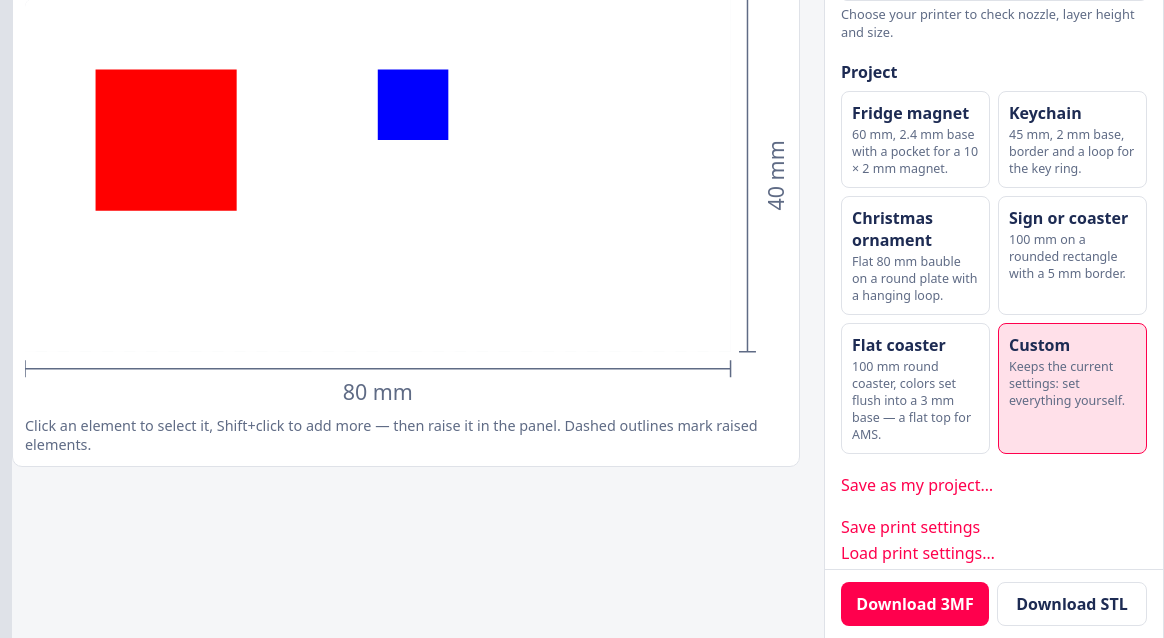
PrintStep › cancels a running download
The image size is (1164, 638).
Click the button "Download 3MF" at (915, 604), box [841,582,989,626]
(page scrolled)
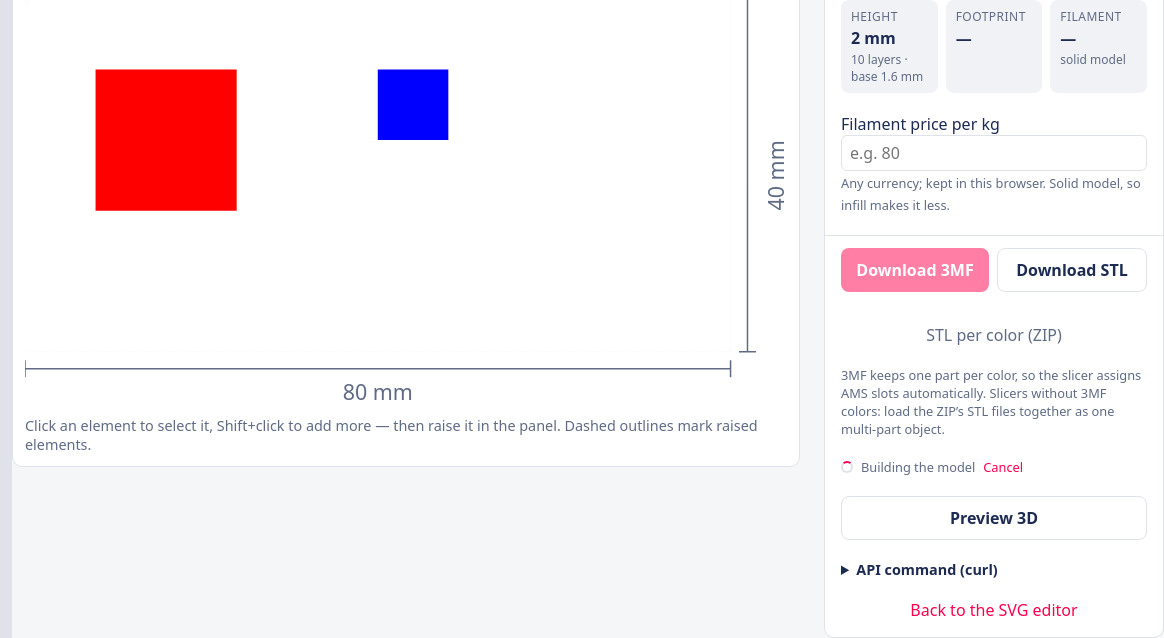
Check: the text "Building the model" is shown, box [841,458,1023,476]
Check: the button "Download STL" is disabled, box [997,248,1147,292]
Click the button "Cancel" at (1003, 467), box [983,458,1023,476]
(page scrolled)
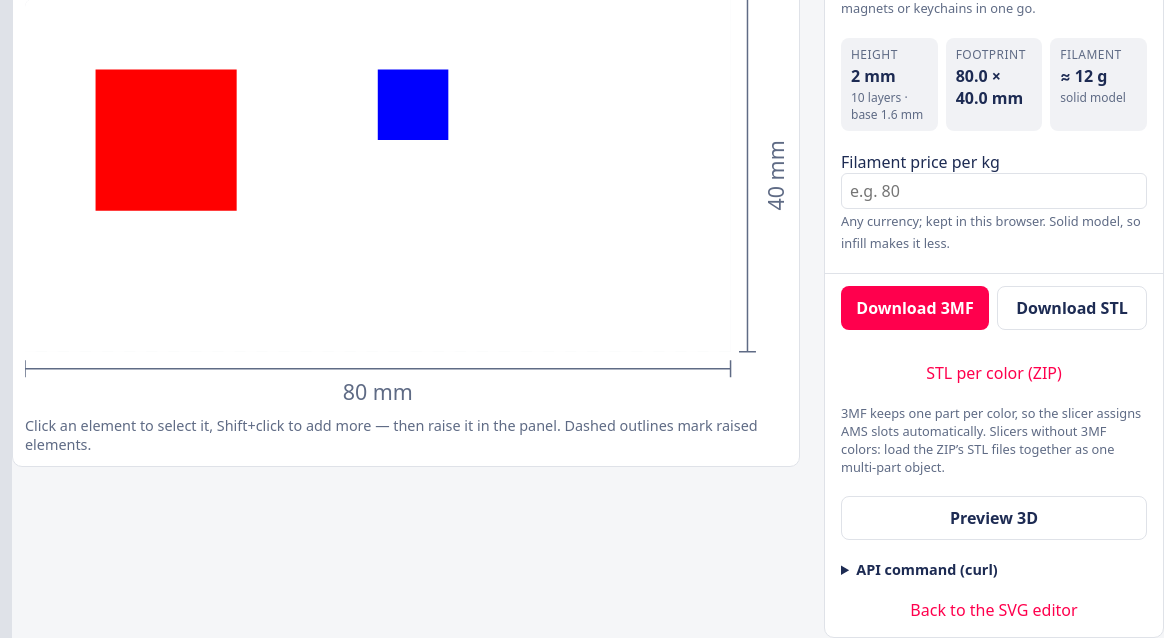
Check: the button "Download 3MF" is enabled, box [841,286,989,330]
Check: the message "Building the model Cancel" is gone
